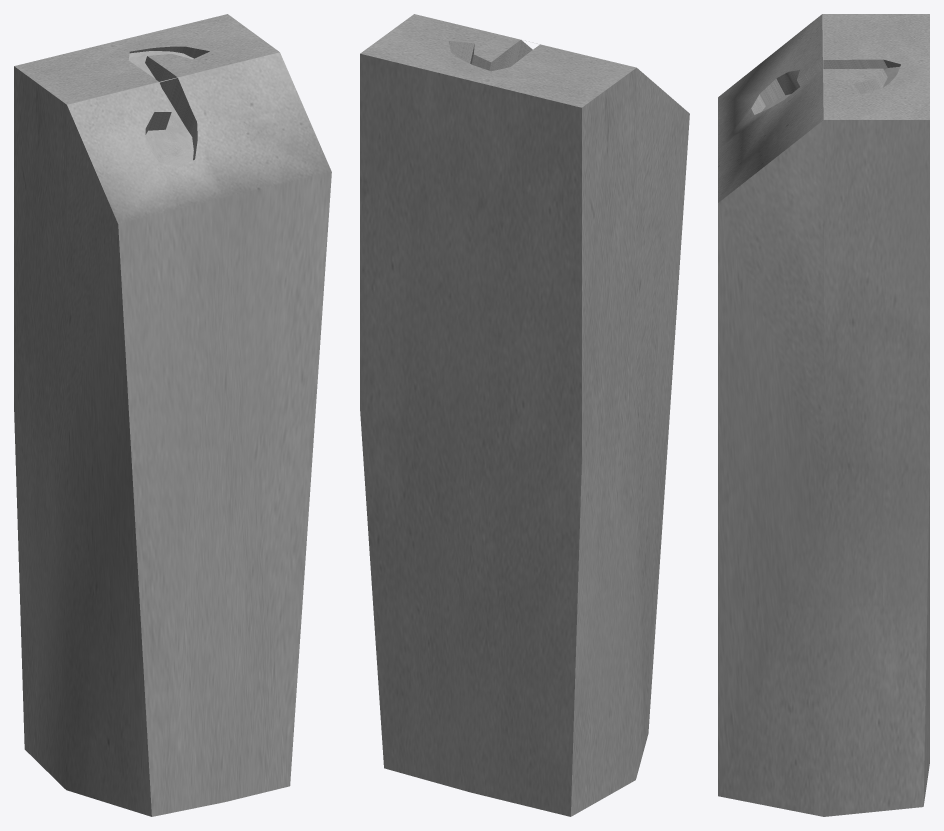
Rendered from Obstacle1.fbx.
3 renders of one model, left to right at view 1: azimuth 30°, elevation 25°; view 2: azimuth 150°, elevation 25°; view 3: azimuth 270°, elevation 25°, orthographic. The views are drawn at different scales.
Visible parts, largest first — view 1: Object9; view 2: Object9; view 3: Object9.
Part boxes in pixels (bbox=[...]): Object9: bbox=[14, 14, 331, 816]; Object9: bbox=[360, 14, 689, 816]; Object9: bbox=[718, 14, 929, 816].
Bounding box in the file's own units: 3.39 × 10.39 × 2.86.
Materials: 1 (1 with a texture image).
